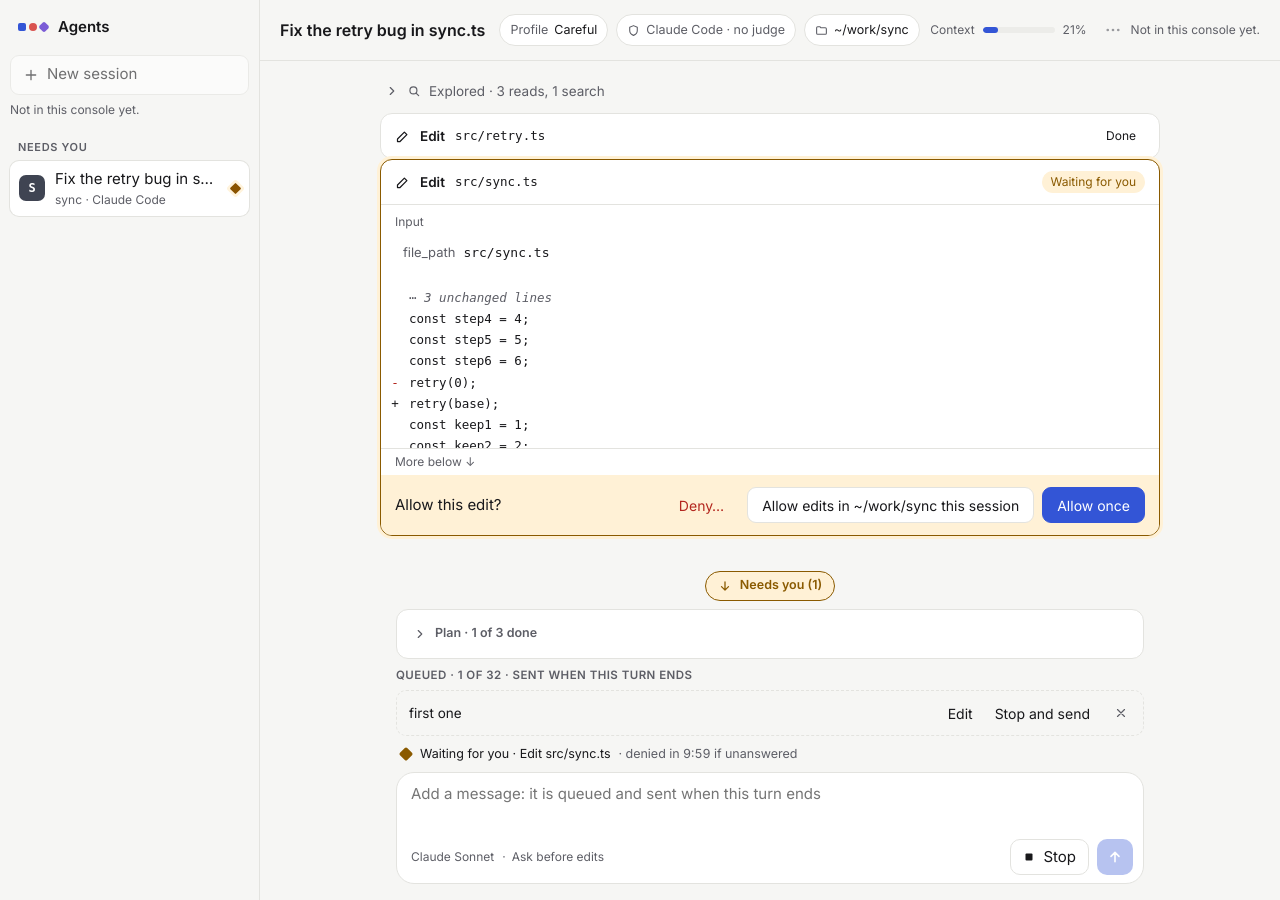
Test case: S36 r3 › regress_S36_edit_of_a_taken_item_leaves_everything_alone (F3.1)
(page scrolled)
Expected: the button "Needs you (1)" is shown, [705,571,835,601]
Click the button with aria-label "Edit queued message 1" at (960, 713), box [939,695,982,731]
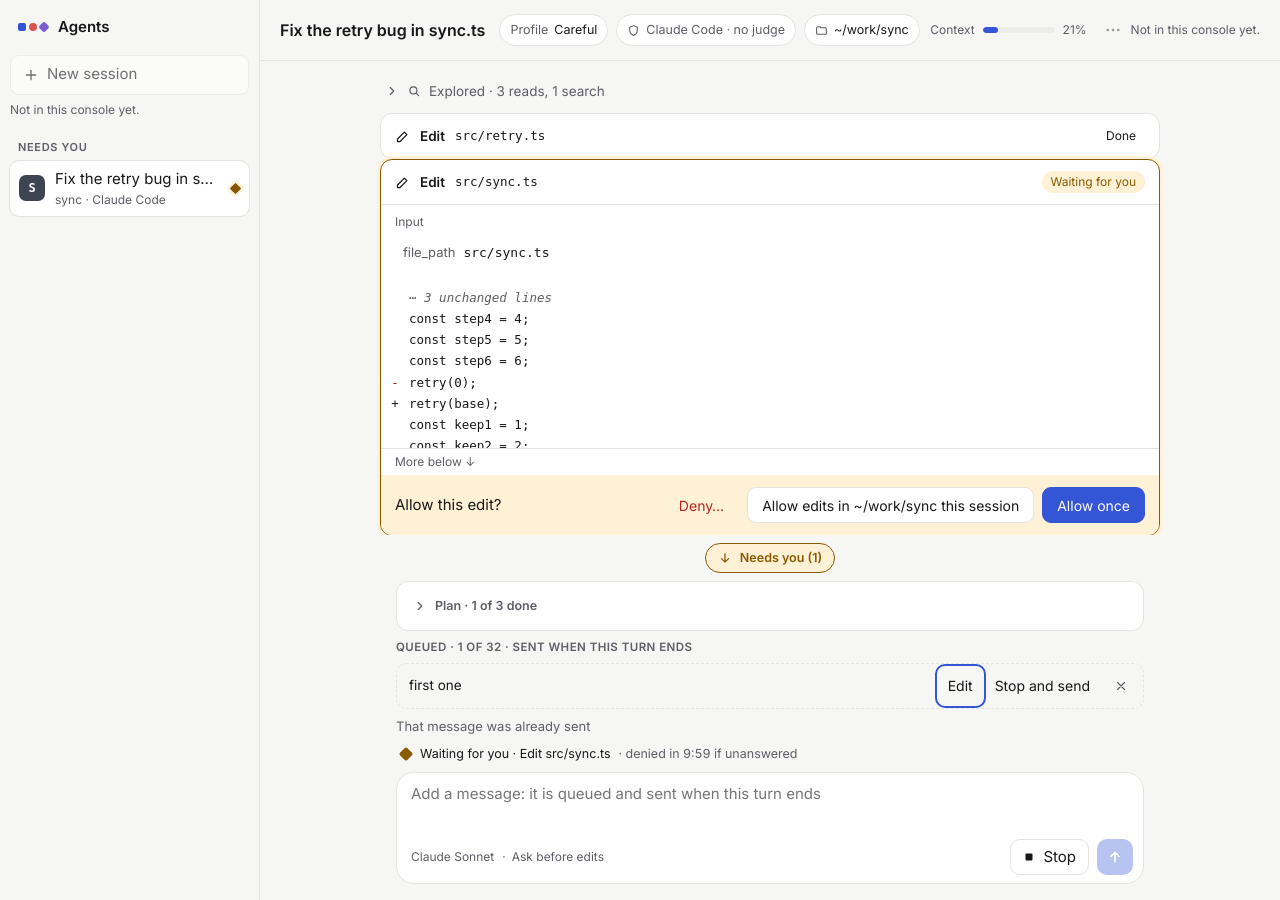
Expected: the text box labelled "message" is empty, [411,783,1133,831]
Expected: the message with class "wa-queue-note" reads "That message was already sent", [396,718,590,734]
